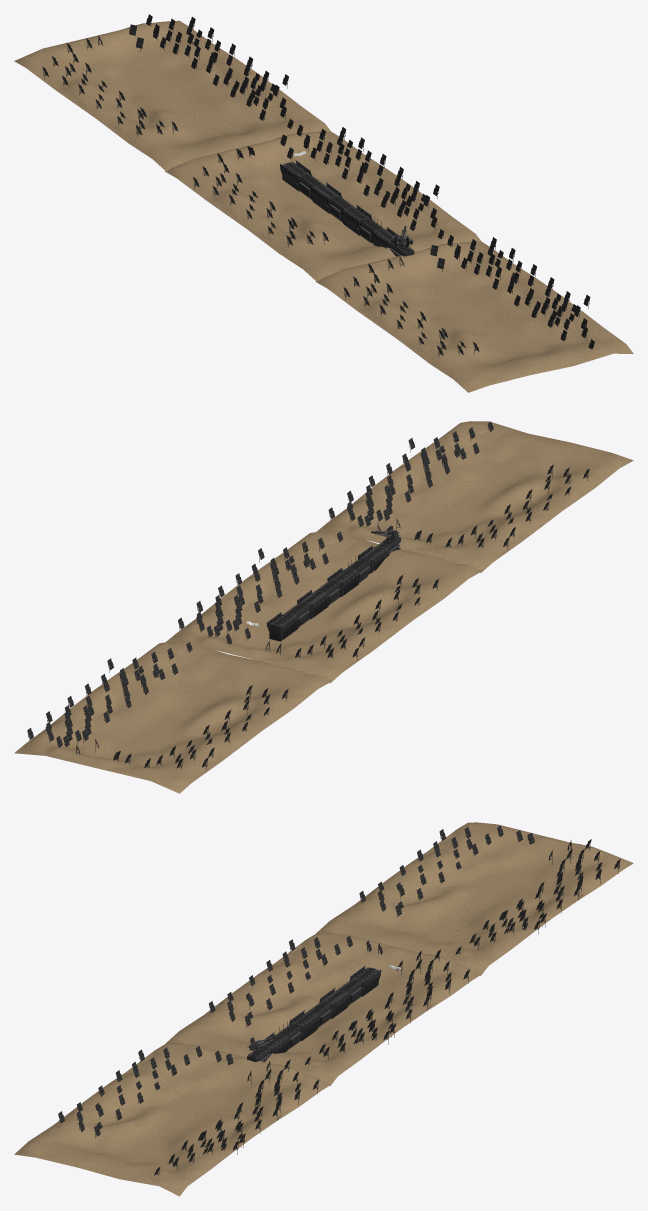
File: D4tietiao01J (merge).fbx
The picture shows the model from 3 angles, top to bottom: view 1: azimuth 30°, elevation 25°; view 2: azimuth 150°, elevation 25°; view 3: azimuth 330°, elevation 25°; orthographic projection.
Visible parts, largest first — view 1: MOVE (2)-mesh-mesh, MOVE-mesh-mesh, MOVE (1)-mesh-mesh; view 2: MOVE-mesh-mesh, MOVE (2)-mesh-mesh, MOVE (1)-mesh-mesh, Firewaike01; view 3: MOVE (2)-mesh-mesh, MOVE-mesh-mesh, MOVE (1)-mesh-mesh.
Boxes of the visible parts, x1=… form: MOVE (2)-mesh-mesh: x1=315, y1=235, x2=633, y2=392; MOVE-mesh-mesh: x1=14, y1=14, x2=330, y2=172; MOVE (1)-mesh-mesh: x1=165, y1=124, x2=481, y2=282; MOVE-mesh-mesh: x1=14, y1=641, x2=331, y2=793; MOVE (2)-mesh-mesh: x1=316, y1=421, x2=633, y2=572; MOVE (1)-mesh-mesh: x1=166, y1=531, x2=482, y2=683; Firewaike01: x1=266, y1=612, x2=298, y2=641; MOVE (2)-mesh-mesh: x1=14, y1=1043, x2=331, y2=1196; MOVE-mesh-mesh: x1=316, y1=822, x2=633, y2=975; MOVE (1)-mesh-mesh: x1=165, y1=932, x2=481, y2=1085.
Size of the model in its own units: 514 by 89.89 by 2353.
